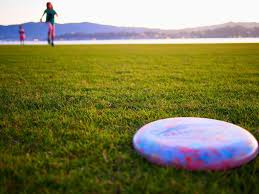disc: (134, 117, 259, 170)
